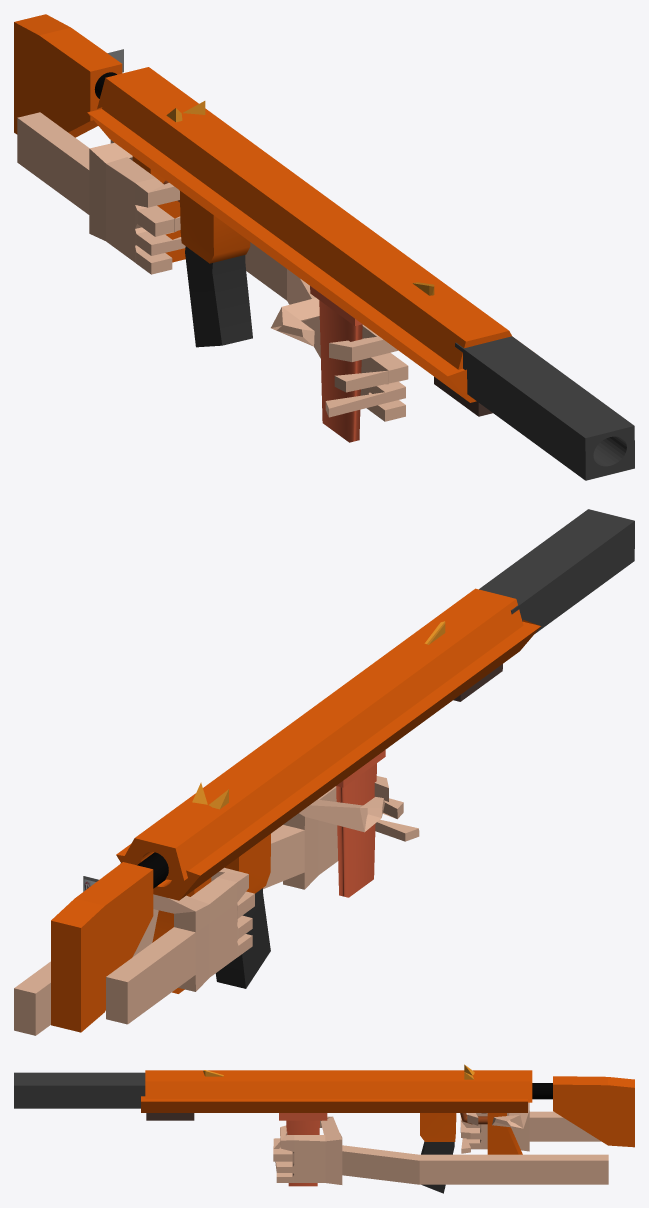
3 renders of one model, top to bottom at view 1: azimuth 30°, elevation 25°; view 2: azimuth 150°, elevation 25°; view 3: azimuth 270°, elevation 25°, orthographic. The views are drawn at different scales.
Parts seen in each view (by area): view 1: Cube.011, Cube.005, Cube, Cube.008, Cube.009, Cube.013, Cube.004, Cube.012, Cube.010, Cube.002; view 2: Cube.011, Cube, Cube.009, Cube.013, Cube.005, Cube.008, Cube.012, Cube.004, Cube.010; view 3: Cube.013, Cube.011, Cube.008, Cube.005, Cube.009, Cube, Cube.010, Cube.002, Cube.012, Cube.004, Cube.003, Cylinder.002.
Part boxes in pixels (bbox=[...]): Cube.011: bbox=[97, 67, 511, 369]; Cube.005: bbox=[455, 336, 634, 480]; Cube: bbox=[17, 112, 185, 274]; Cube.008: bbox=[87, 107, 476, 402]; Cube.009: bbox=[14, 14, 122, 137]; Cube.013: bbox=[110, 140, 408, 421]; Cube.004: bbox=[185, 246, 252, 347]; Cube.012: bbox=[310, 286, 362, 442]; Cube.010: bbox=[179, 190, 250, 263]; Cube.002: bbox=[132, 156, 185, 262]; Cube.011: bbox=[120, 588, 523, 880]; Cube: bbox=[106, 867, 254, 1024]; Cube.009: bbox=[51, 862, 153, 1032]; Cube.013: bbox=[14, 776, 419, 1035]; Cube.005: bbox=[479, 509, 634, 633]; Cube.008: bbox=[116, 619, 540, 900]; Cube.012: bbox=[336, 750, 385, 897]; Cube.004: bbox=[215, 888, 270, 988]; Cube.010: bbox=[224, 834, 270, 893]; Cube.013: bbox=[273, 1116, 608, 1184]; Cube.011: bbox=[145, 1070, 532, 1102]; Cube.008: bbox=[141, 1096, 527, 1112]; Cube.005: bbox=[14, 1072, 145, 1108]; Cube.009: bbox=[553, 1076, 634, 1147]; Cube: bbox=[460, 1102, 601, 1153]; Cube.010: bbox=[420, 1113, 456, 1141]; Cube.002: bbox=[487, 1113, 522, 1154]; Cube.012: bbox=[279, 1113, 327, 1186]; Cube.004: bbox=[421, 1141, 454, 1193]; Cube.003: bbox=[146, 1113, 194, 1120]; Cylinder.002: bbox=[532, 1083, 552, 1099].
Bounding box in the file's own units: 224 × 393 × 1822.
11 materials, 1 textured.
